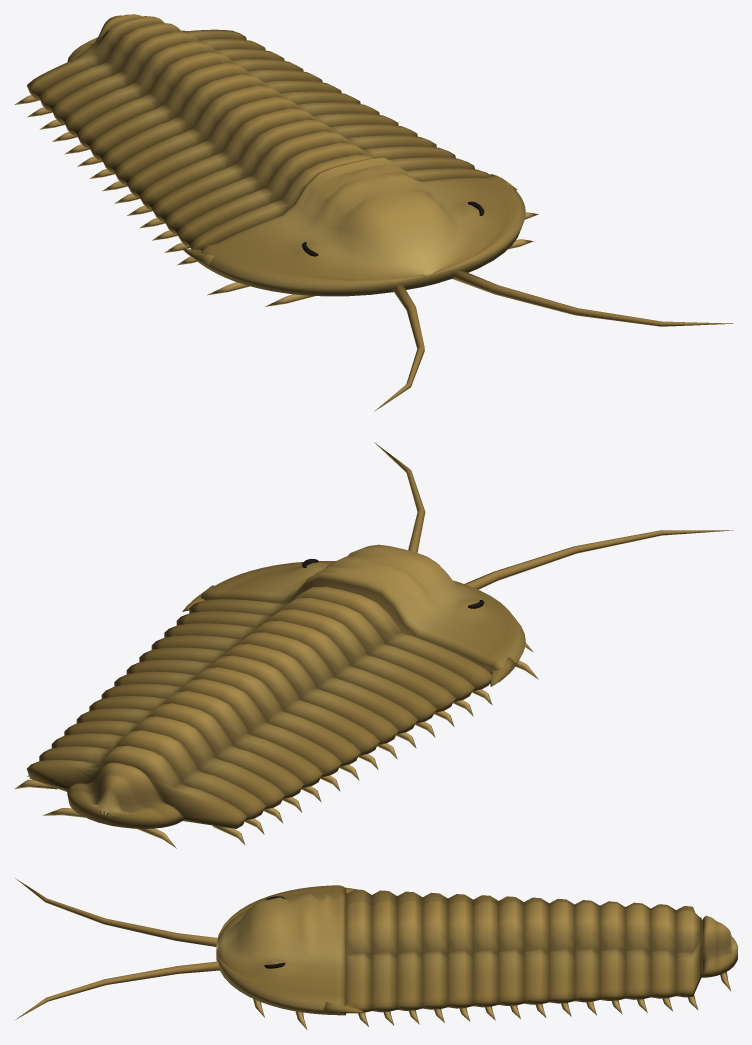
Rendered from TriarthrusEatoni.fbx.
The picture shows the model from 3 angles, top to bottom: view 1: azimuth 30°, elevation 25°; view 2: azimuth 150°, elevation 25°; view 3: azimuth 270°, elevation 25°; orthographic projection. The views are drawn at different scales.
Visible parts, largest first — view 1: TriarthrusEatoni; view 2: TriarthrusEatoni; view 3: TriarthrusEatoni.
Part boxes in pixels (x1=…): TriarthrusEatoni: x1=14, y1=14, x2=732, y2=411; TriarthrusEatoni: x1=14, y1=442, x2=733, y2=848; TriarthrusEatoni: x1=15, y1=878, x2=737, y2=1029.
Size of the model in its own units: 1.04 by 0.2091 by 2.22.
